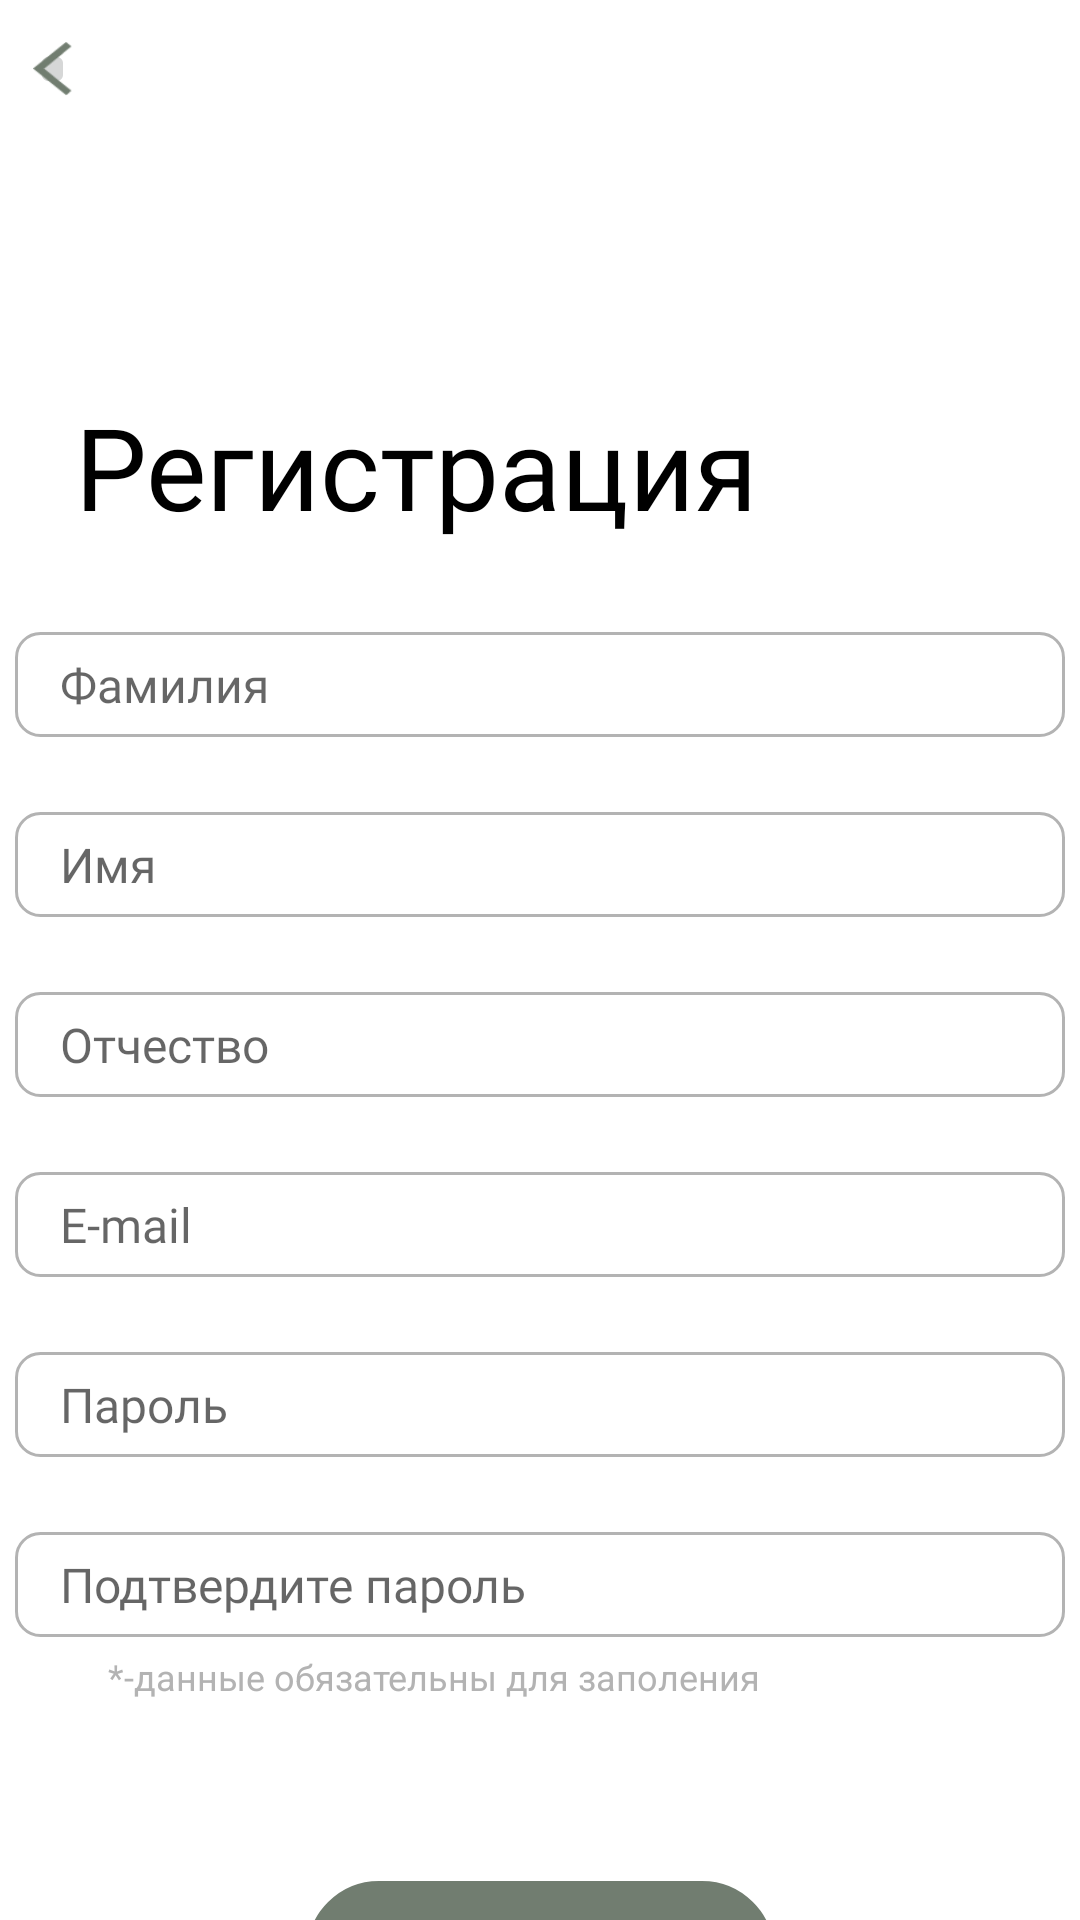

Screen size 1080*1920. Icon name, then its center in pixels as (x=x, y=y):
exit: (x=52, y=68)
